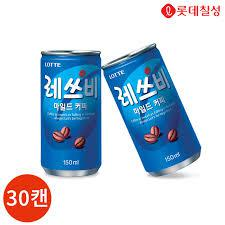letsbe: (104, 48, 203, 177), (42, 48, 104, 180)
